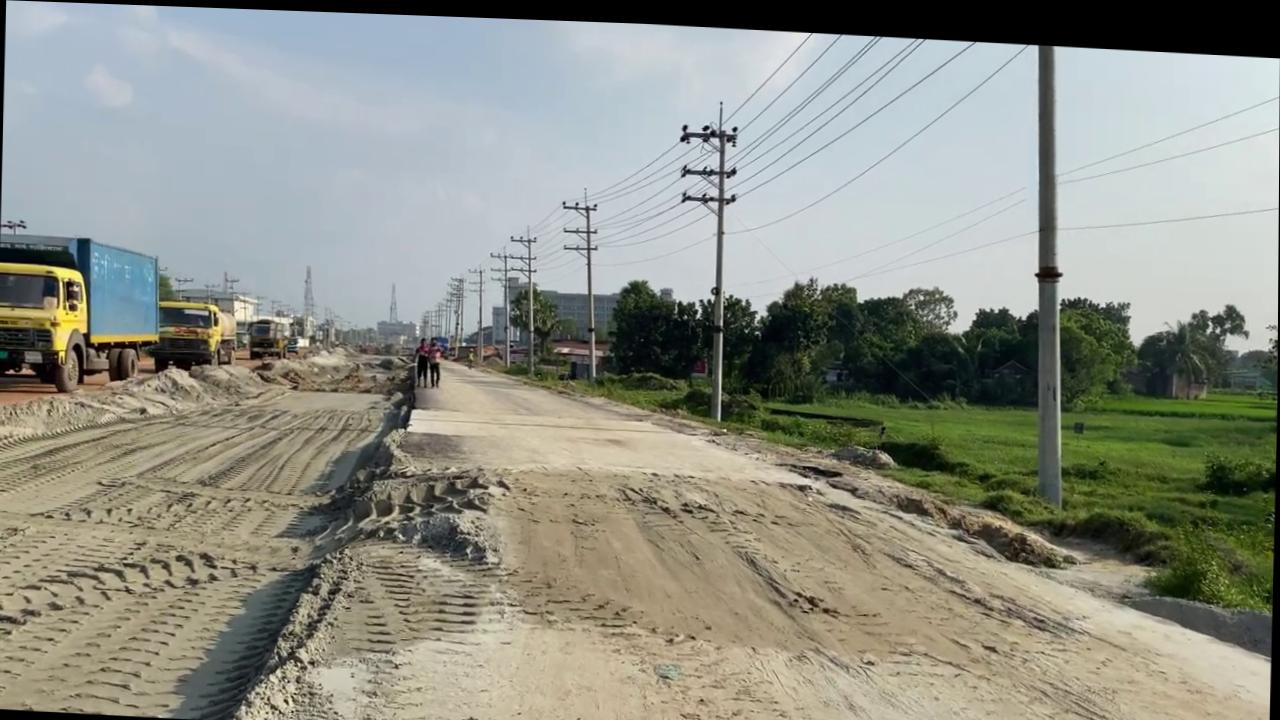Light-pole: (671, 92, 740, 416)
Muddy road: (0, 327, 415, 720)
Pole: (1026, 36, 1073, 502), (709, 94, 731, 416)
Rickshaw: (235, 340, 1276, 720), (401, 347, 806, 482)
Traffic-sign: (507, 278, 562, 362)
Tree: (0, 224, 162, 396), (148, 296, 238, 374), (247, 313, 292, 360)
